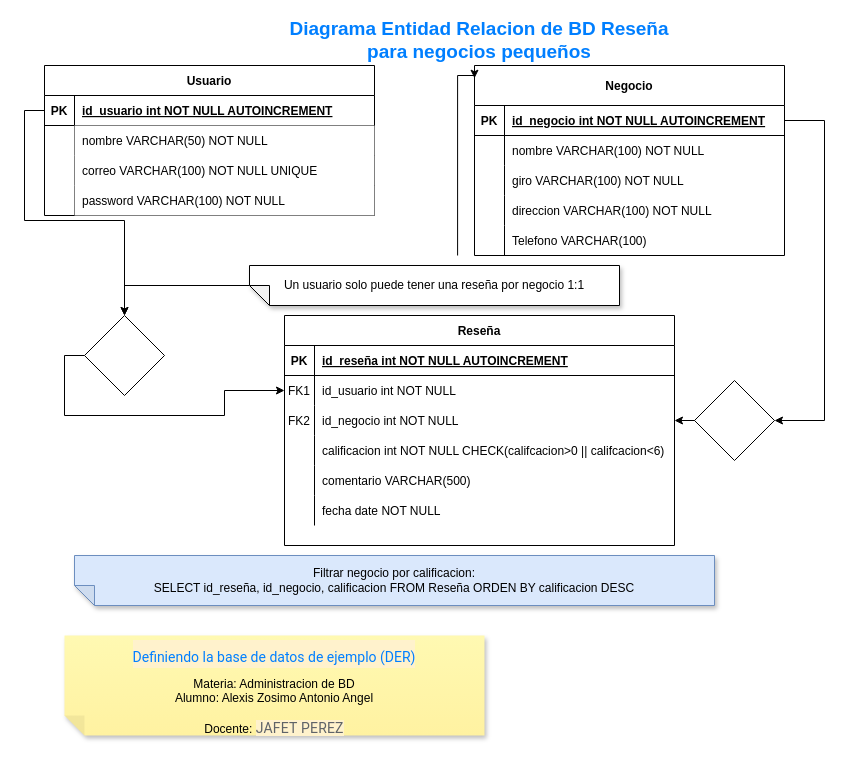
The diagram is 850 pixels wide and 771 high, and some of its shapes have lost their labels. Each missing label, with the centre of its shape:
"Genera 1:N" goes at [124,355].
"Obtiene N:1" goes at [734,420].
